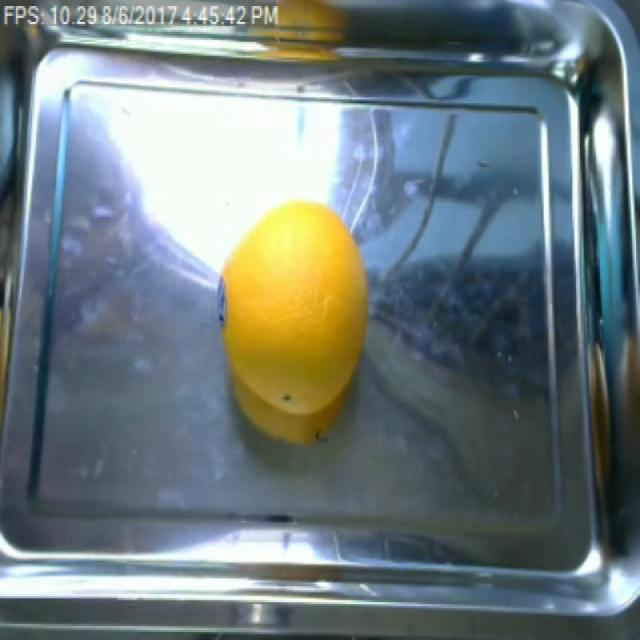Fruit: (216, 193, 373, 447), (270, 0, 354, 34)
